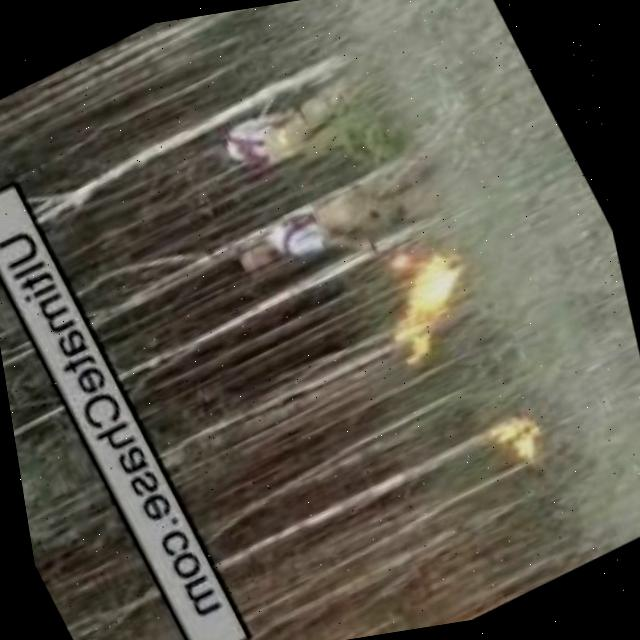fire: (362, 229, 495, 363), (493, 396, 569, 475)
